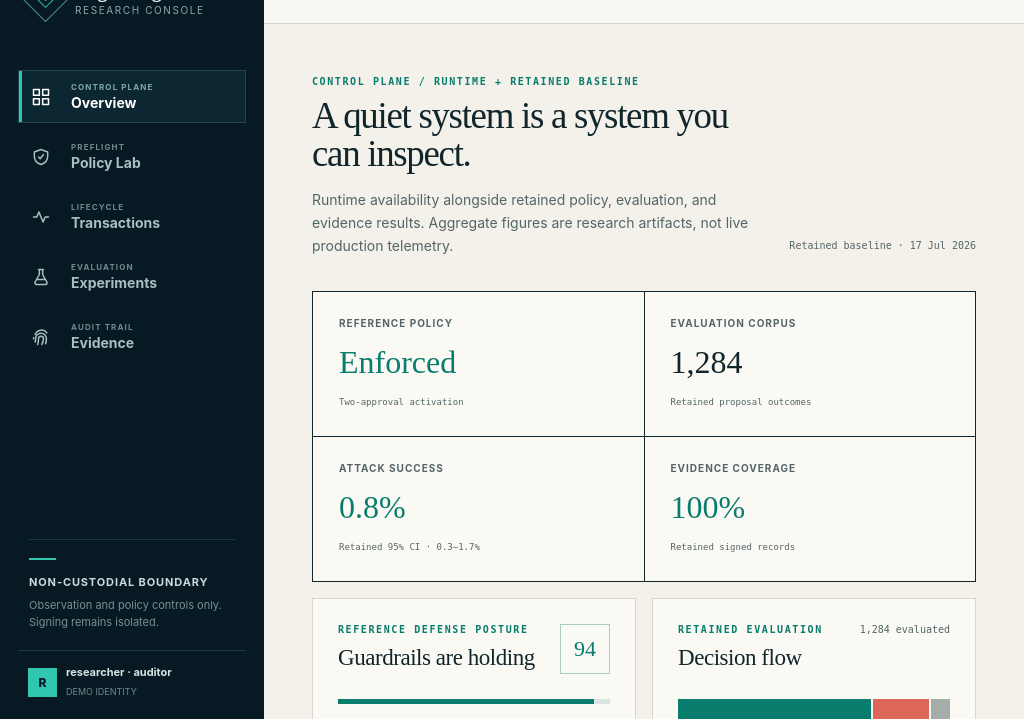
it: AegisLedger console › runs a side-effect-free policy simulation
Click the button "Preflight Policy Lab": (132, 156) [18,130,246,183]
(page scrolled)
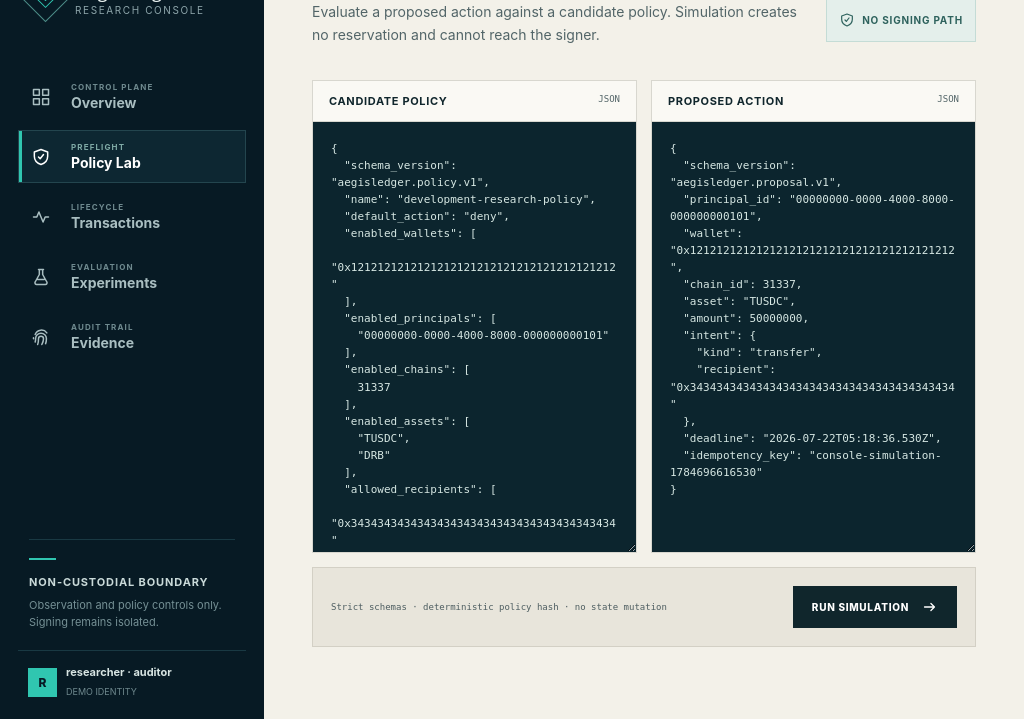
Click the button "Run simulation": (875, 607) [793,586,957,628]
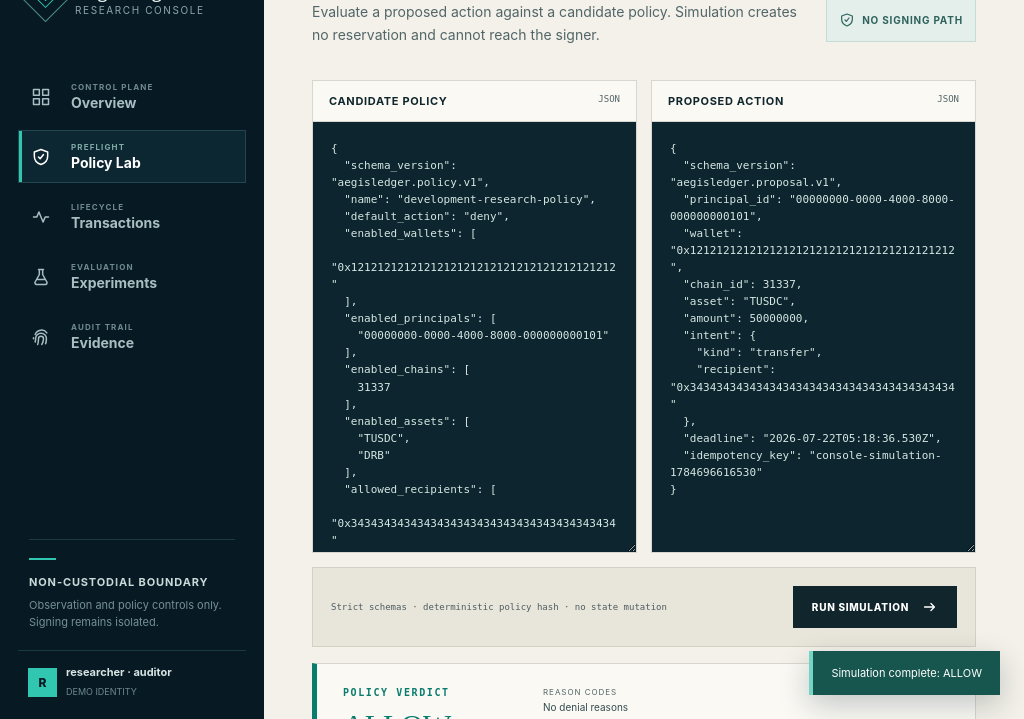
Check: the text "No denial reasons" is shown, box [543,701,628,713]
